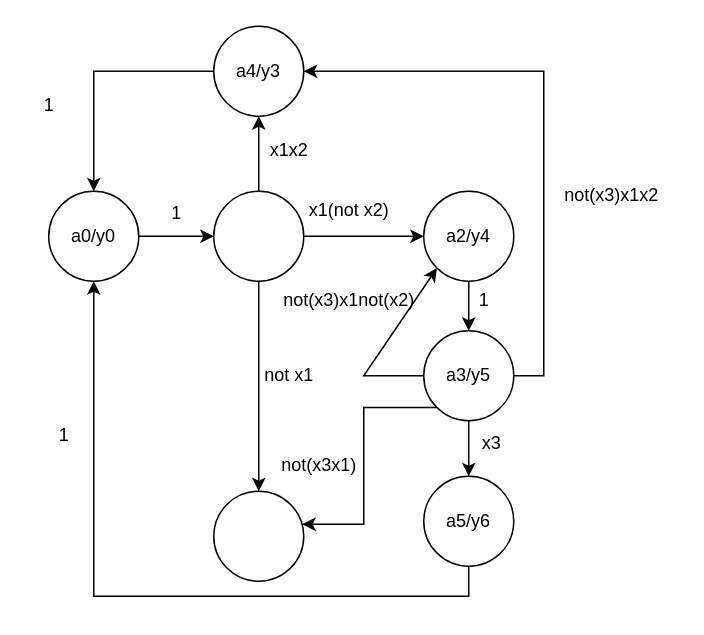
The diagram is 704 pixels wide and 635 high, and some of its shapes have lost their labels. Each missing label, with the centre of its shape:
a1/y1: point (258, 235)
a6/y2: point (258, 535)
